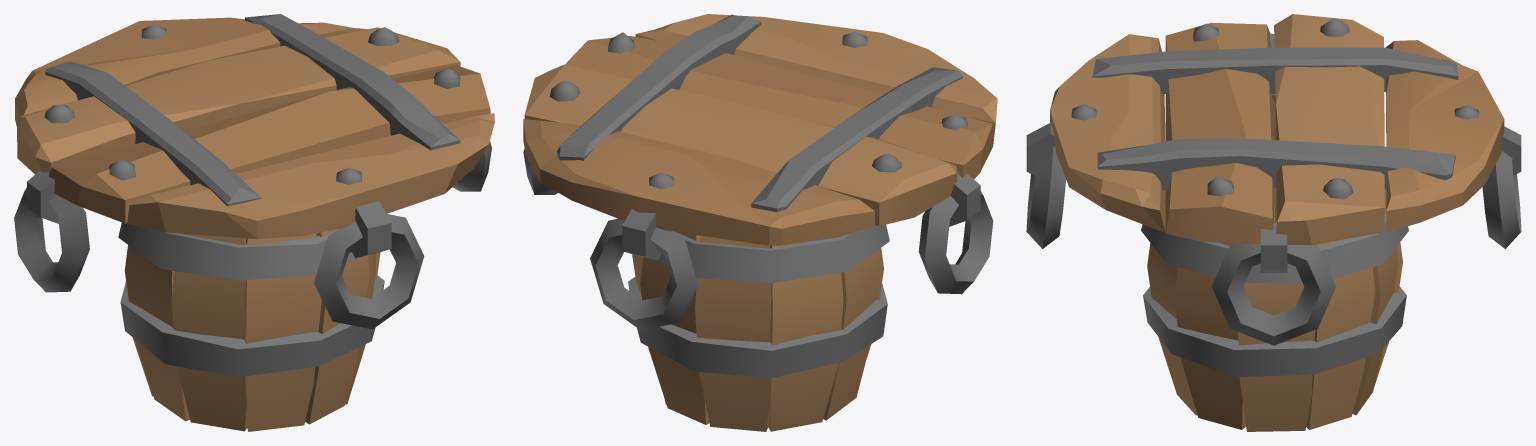
File: Table_H.fbx
3 renders of one model, left to right at view 1: azimuth 30°, elevation 25°; view 2: azimuth 150°, elevation 25°; view 3: azimuth 270°, elevation 25°, orthographic. The views are drawn at different scales.
Parts seen in each view (by area): view 1: Table_H; view 2: Table_H; view 3: Table_H.
Boxes of the visible parts, x1,y1,x2,y2 form: Table_H: [14, 14, 494, 431]; Table_H: [523, 14, 997, 431]; Table_H: [1026, 14, 1521, 431].
Size of the model in its own units: 153 by 101 by 153.
